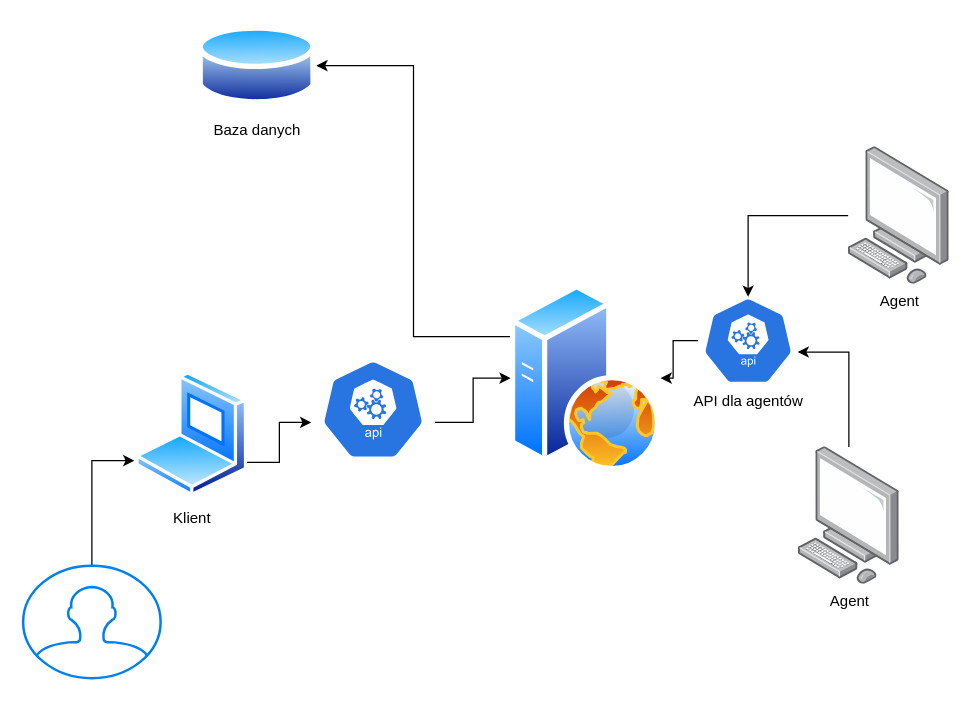
Some shapes in this 971 by 725 pixel diagram are drawn without their labels. The shapes that lost their labels are listed below. From the top down, each one's centre as x and y in pixels, then its label:
point (585, 377): Serwer
point (372, 408): API dla klienta
point (91, 621): Użytkownik
